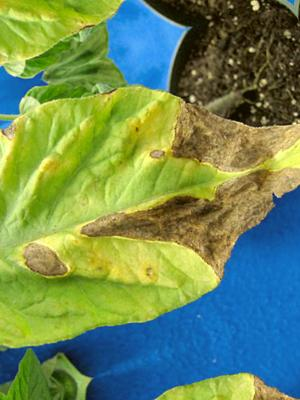Tomato leaf late blight: (0, 10, 300, 373)
